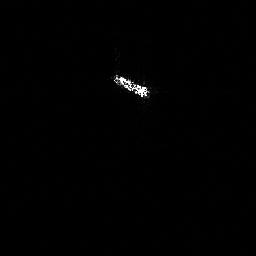ship: (108, 70, 154, 102)
